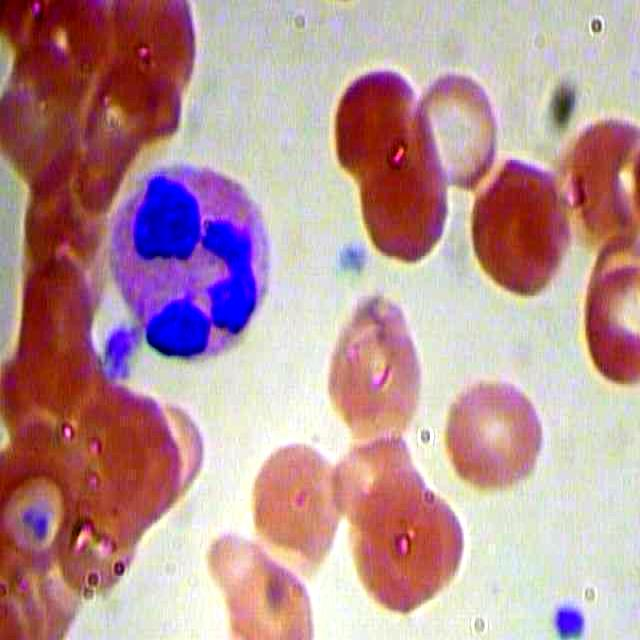Platelets: (101, 320, 143, 381), (550, 588, 592, 640)
RBC: (345, 476, 473, 620), (321, 284, 430, 449), (464, 156, 577, 303), (246, 439, 350, 572), (439, 372, 550, 496), (200, 526, 316, 640), (414, 59, 507, 197), (323, 54, 425, 170), (359, 146, 461, 262)
WBC: (106, 153, 279, 364)
